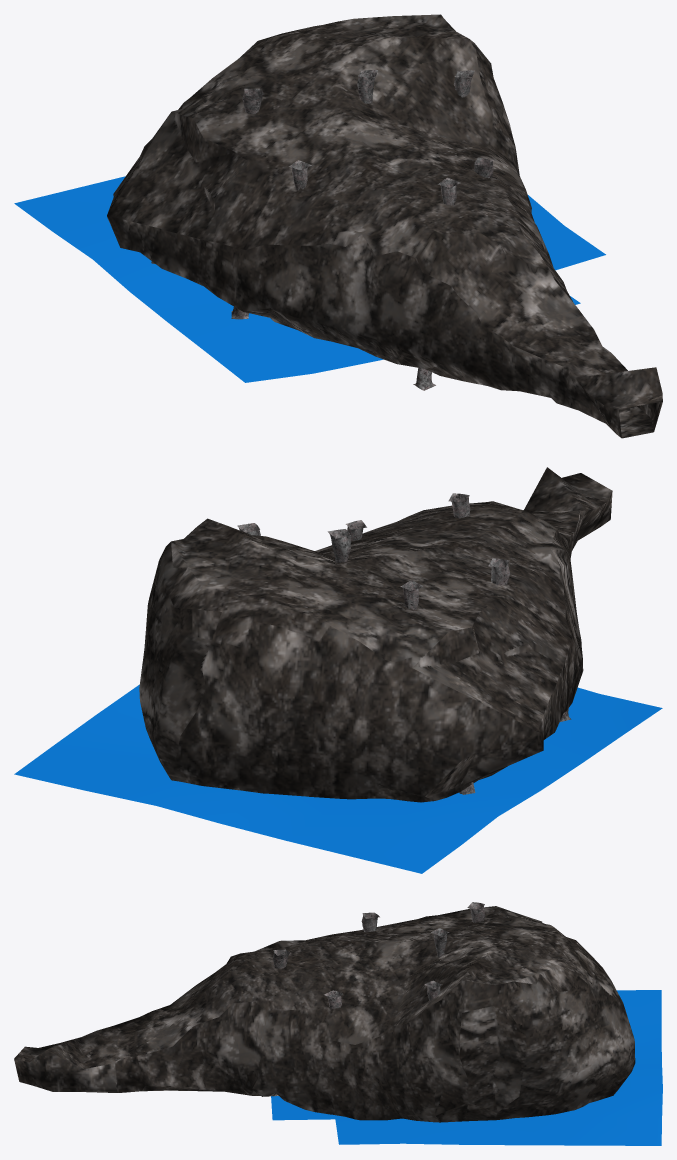
File: cueva2.fbx
3 views of the same model, one above another, from view 1: azimuth 30°, elevation 25°; view 2: azimuth 150°, elevation 25°; view 3: azimuth 270°, elevation 25° (orthographic). The views are drawn at different scales.
Parts seen in each view (by area): view 1: cueva, waterPlane, pinchos; view 2: cueva, waterPlane, pinchos; view 3: cueva, waterPlane, pinchos.
Boxes of the visible parts, x1,y1,x2,y2 form: cueva: (107, 14, 662, 438); waterPlane: (14, 176, 605, 382); pinchos: (151, 70, 493, 390); cueva: (139, 467, 612, 802); waterPlane: (14, 684, 662, 873); pinchos: (237, 493, 571, 794); cueva: (14, 906, 635, 1122); waterPlane: (271, 990, 662, 1145); pinchos: (272, 902, 484, 1008).
Size of the model in its own units: 2801 by 1407 by 4791.
3 materials, 2 textured.
